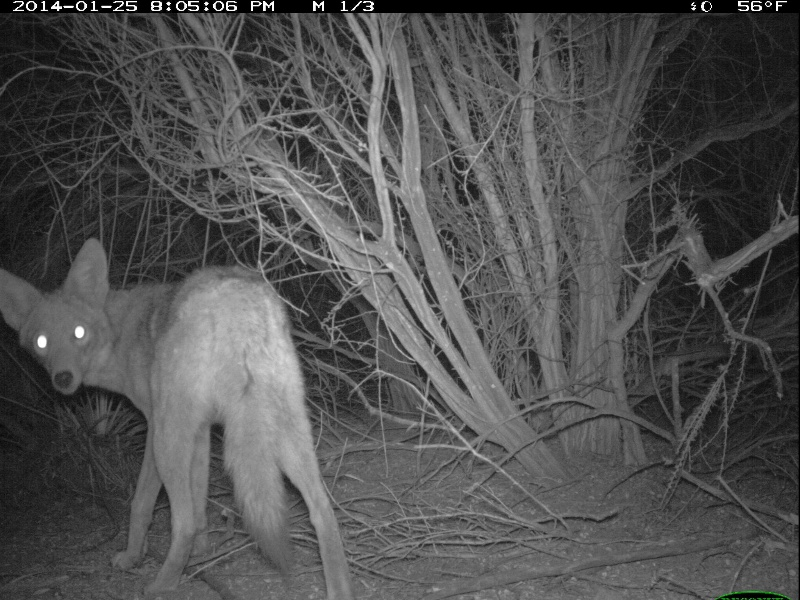coyote: (1, 230, 351, 598)
